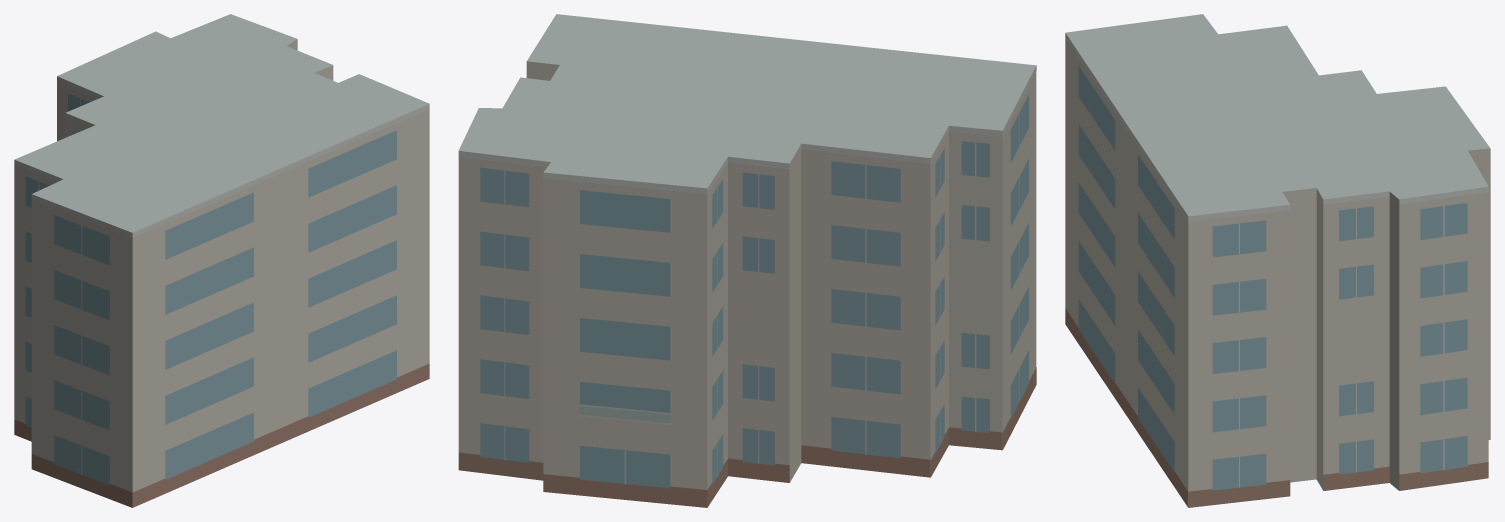
The model's file is survey-upis-32761529.glb.
3 renders of one model, left to right at view 1: azimuth 30°, elevation 25°; view 2: azimuth 150°, elevation 25°; view 3: azimuth 270°, elevation 25°, orthographic. The views are drawn at different scales.
Parts seen in each view (by area): view 1: survey-upis-32761529.tmp; view 2: survey-upis-32761529.tmp; view 3: survey-upis-32761529.tmp.
Part boxes in pixels (bbox=[...]): survey-upis-32761529.tmp: bbox=[14, 14, 429, 507]; survey-upis-32761529.tmp: bbox=[458, 14, 1036, 507]; survey-upis-32761529.tmp: bbox=[1065, 14, 1490, 507].
Size of the model in its own units: 19.66 by 13.2 by 17.46.
